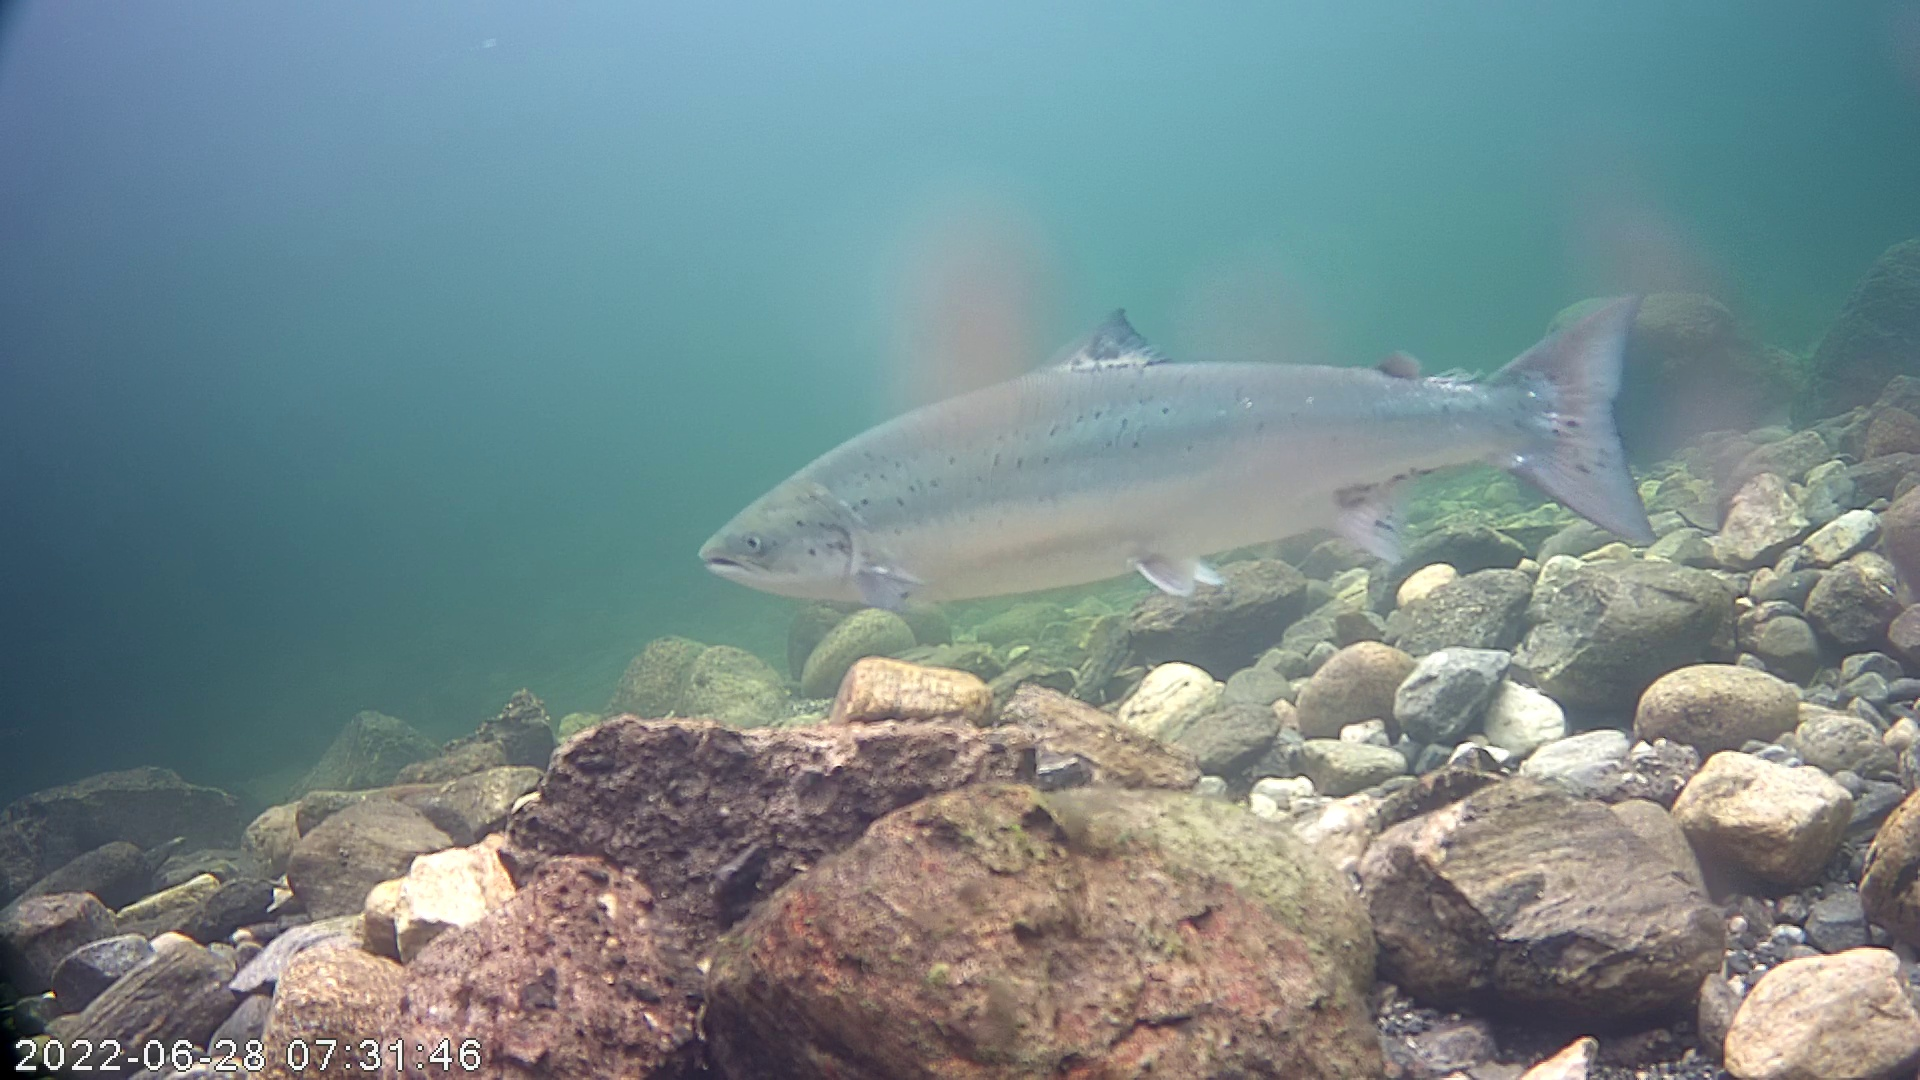salmon: (694, 208, 1667, 669)
